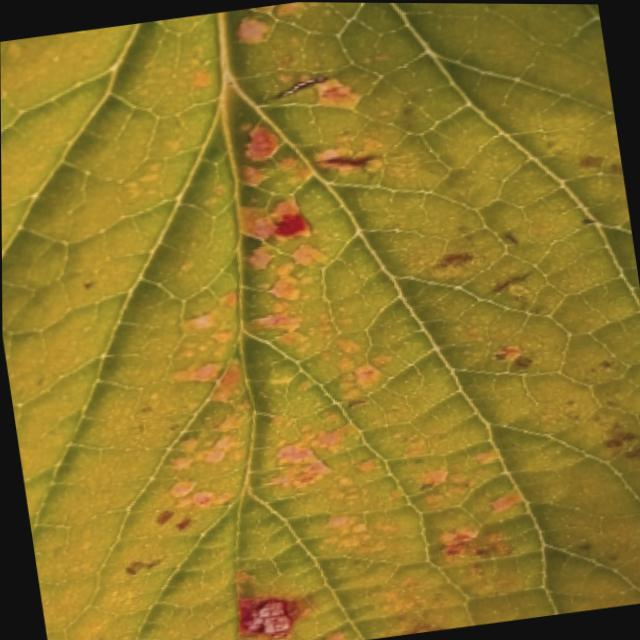Angular Leafspot: (58, 2, 640, 640)
